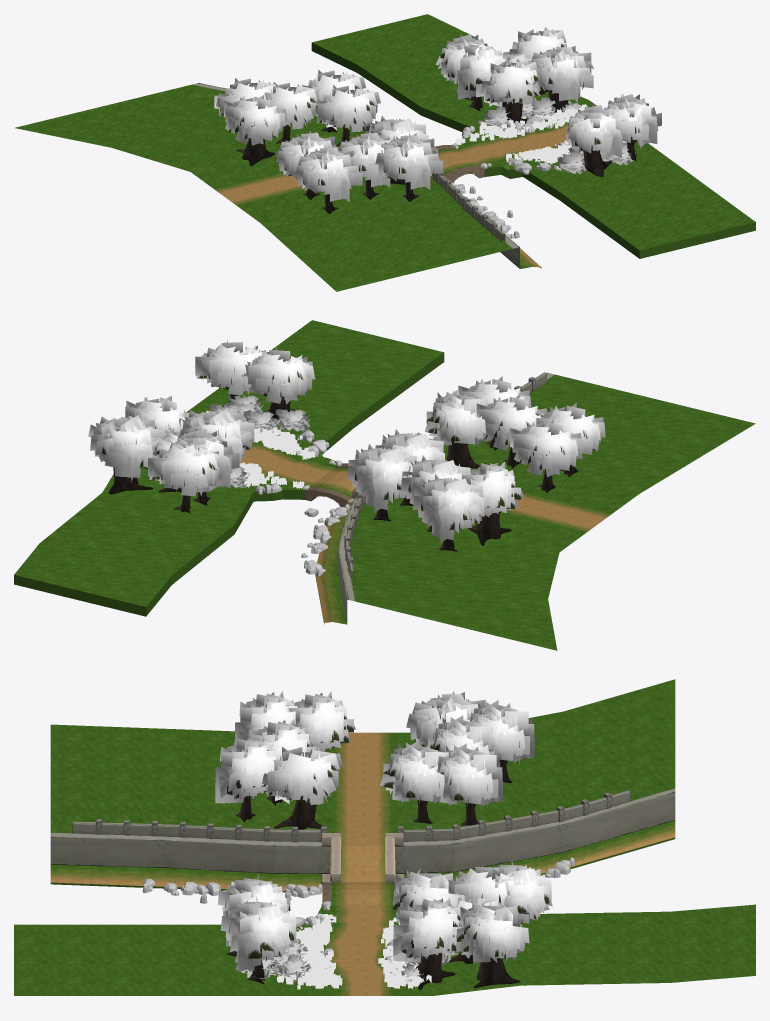
File: templePath.fbx
3 views of the same model, one above another, from view 1: azimuth 30°, elevation 25°; view 2: azimuth 150°, elevation 25°; view 3: azimuth 270°, elevation 25° (orthographic). The views are drawn at different scales.
Parts seen in each view (by area): view 1: Plane, Plane.024, Plane.516; view 2: Plane, Plane.024, Plane.516; view 3: Plane, Plane.024, Plane.516.
Boxes of the visible parts, <box> form: Plane: <box>15,14,755,291</box>; Plane.024: <box>214,27,661,213</box>; Plane.516: <box>455,101,626,164</box>; Plane: <box>14,320,755,650</box>; Plane.024: <box>88,339,605,551</box>; Plane.516: <box>197,410,314,488</box>; Plane: <box>14,679,755,995</box>; Plane.024: <box>215,691,552,989</box>; Plane.516: <box>277,912,431,989</box>.
Bounding box in the file's own units: 5018 × 887 × 5323.
